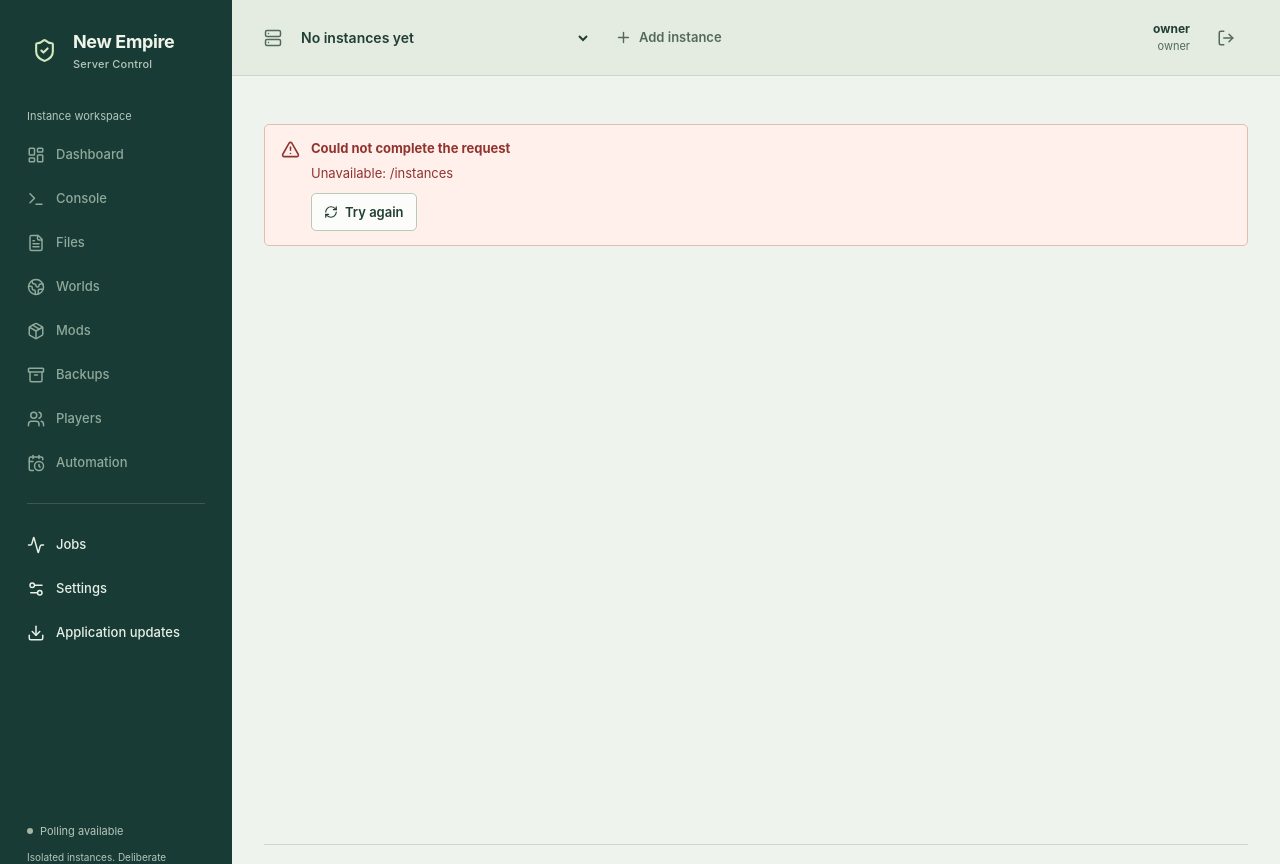
Test: drafts survive failed background refreshes › blocks an initial instance-list error until retry succeeds
expect the text "Unavailable: /instances" is shown: met, box 311,164 -> 453,180
Click the button "Try again" at coordinates (364, 212), box 311,193 -> 417,231
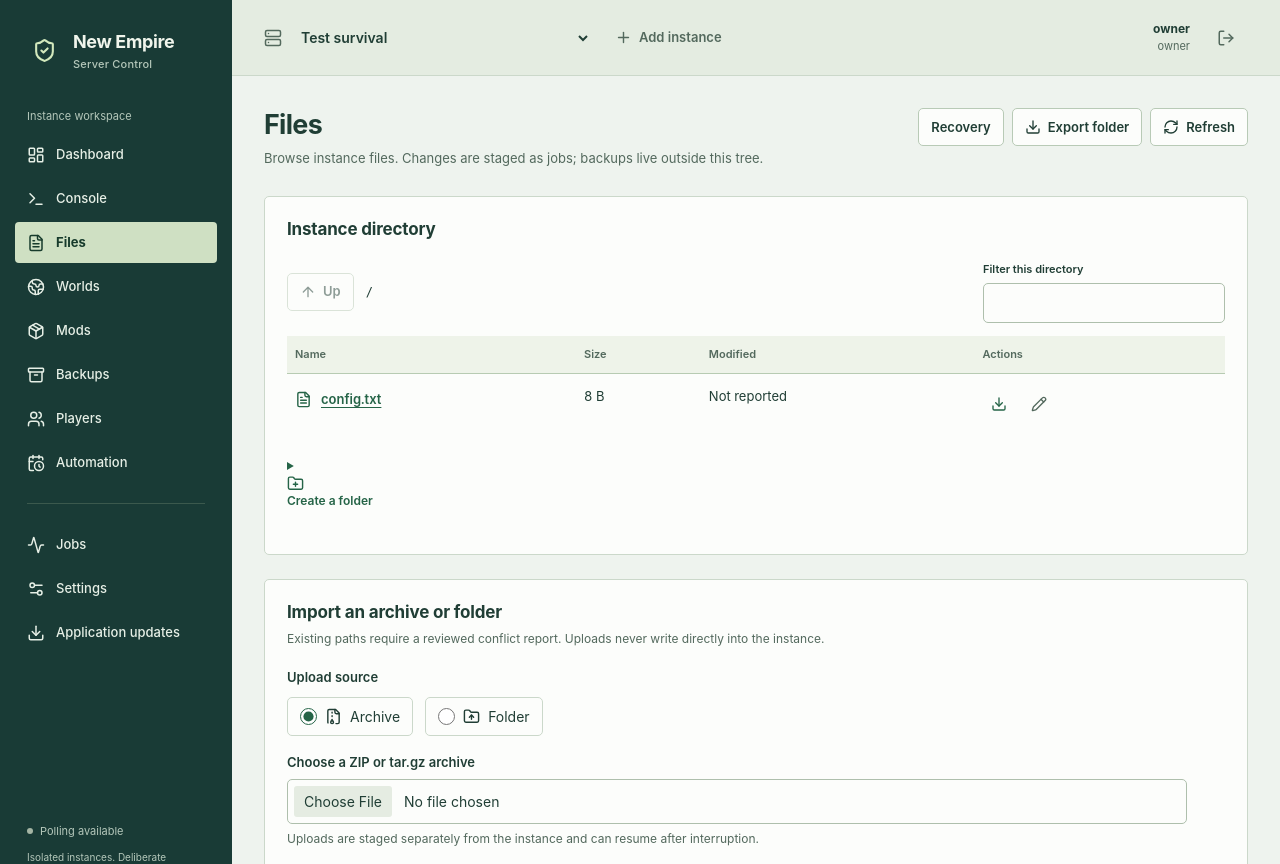
expect the button "config.txt" is shown: met, box 295,387 -> 381,412
